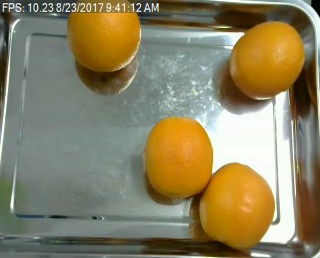Orange: (199, 163, 275, 248), (230, 20, 305, 100), (144, 117, 213, 198), (66, 14, 142, 73)
